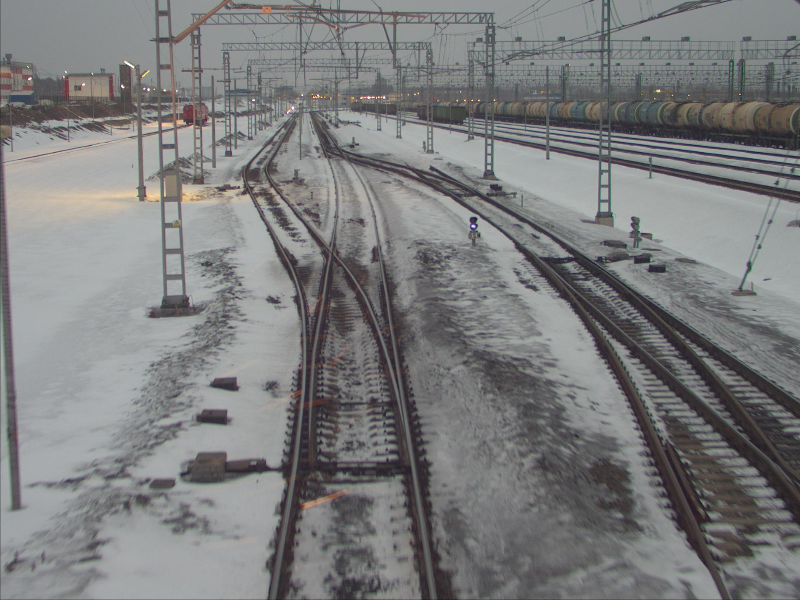left: (296, 235, 426, 471)
